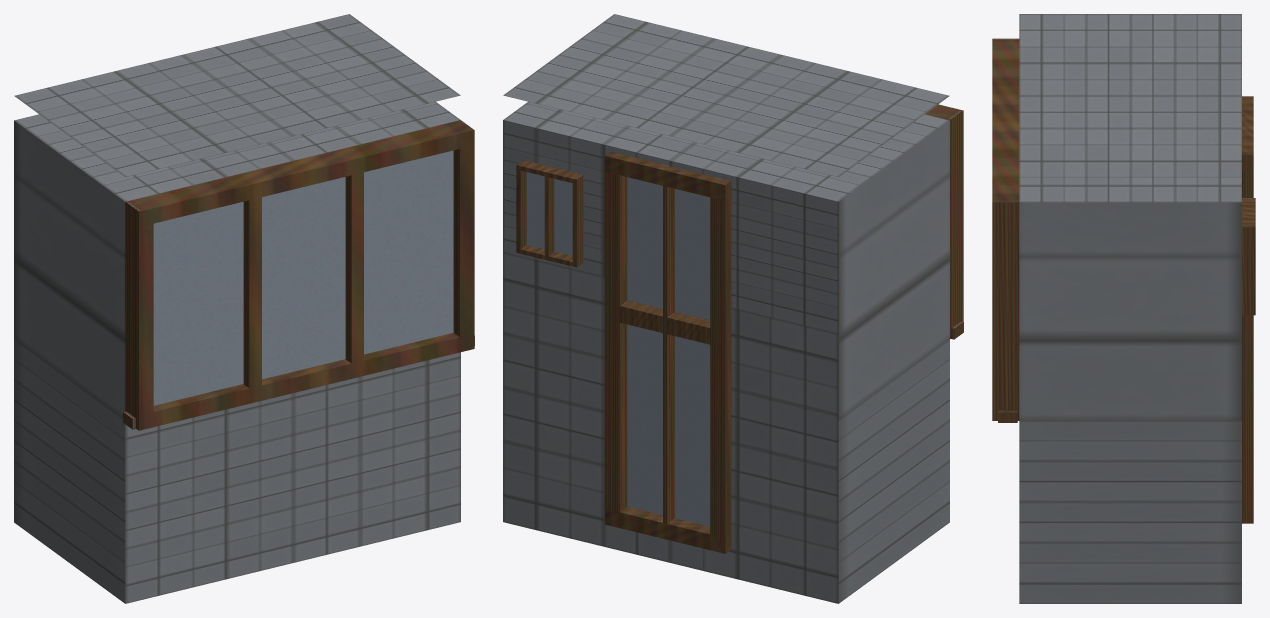
The model's file is balcony.obj.
The picture shows the model from 3 angles, left to right: view 1: azimuth 30°, elevation 25°; view 2: azimuth 150°, elevation 25°; view 3: azimuth 270°, elevation 25°; orthographic projection.
Size of the model in its own units: 2.04 by 2.43 by 1.36.
